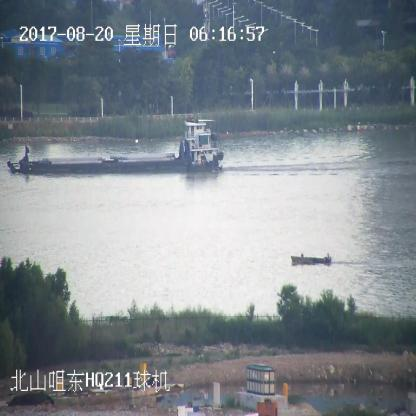Fishing Boat: (292, 252, 331, 267)
